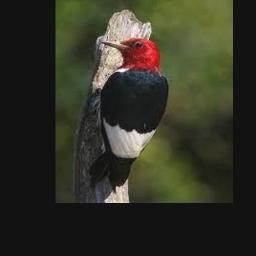Woodpecker: (89, 38, 171, 191)
